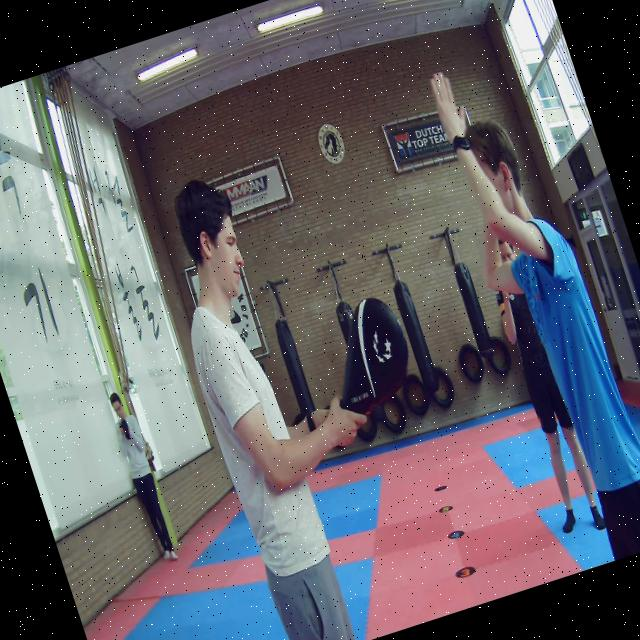paddle: (338, 297, 409, 414)
